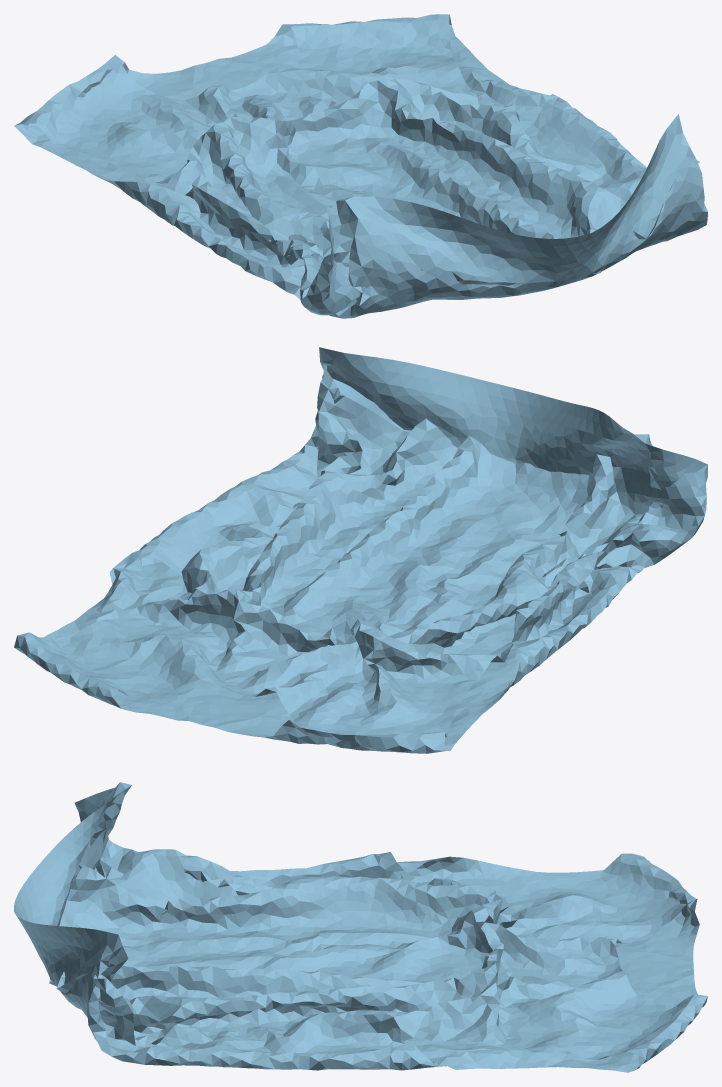
Rendered from frame_06.glb.
3 views of the same model, one above another, from view 1: azimuth 30°, elevation 25°; view 2: azimuth 150°, elevation 25°; view 3: azimuth 270°, elevation 25° (orthographic). The views are drawn at different scales.
Parts seen in each view (by area): view 1: frame_06.obj; view 2: frame_06.obj; view 3: frame_06.obj.
Boxes of the visible parts, bbox=[...] form: frame_06.obj: bbox=[14, 14, 707, 318]; frame_06.obj: bbox=[14, 347, 707, 753]; frame_06.obj: bbox=[14, 782, 707, 1072].
Bounding box in the file's own units: 1.24 × 0.3474 × 1.74.
